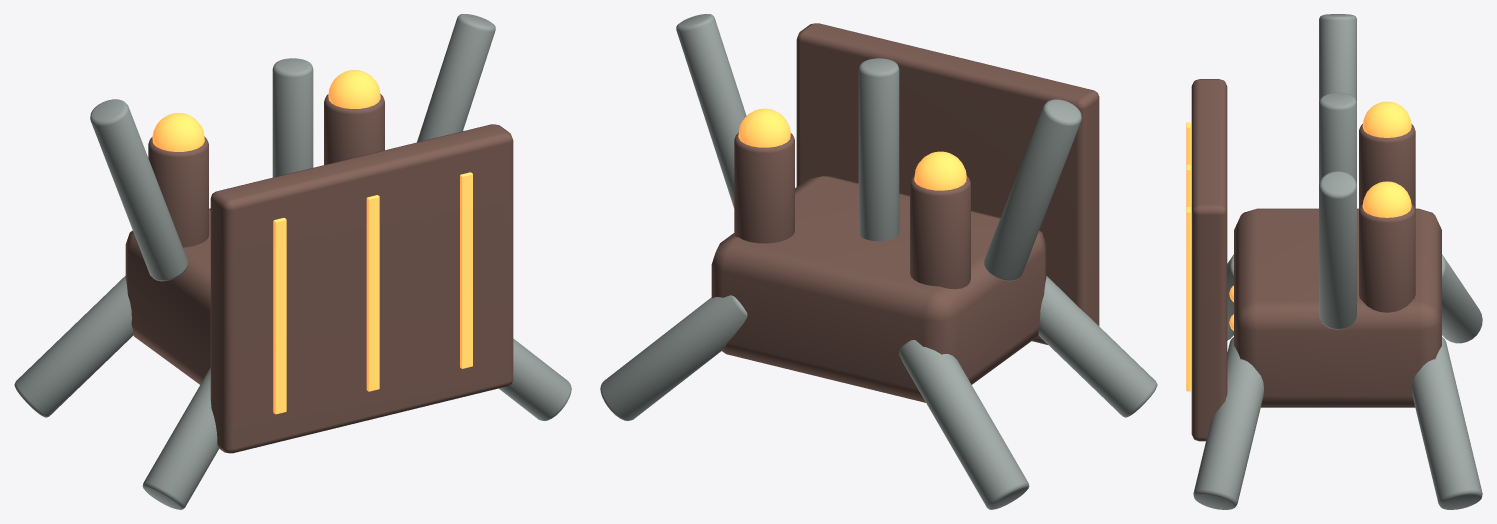
The model's file is card_p2_boss.glb.
3 renders of one model, left to right at view 1: azimuth 30°, elevation 25°; view 2: azimuth 150°, elevation 25°; view 3: azimuth 270°, elevation 25°, orthographic. The views are drawn at different scales.
Parts seen in each view (by area): view 1: card_p2_boss; view 2: card_p2_boss; view 3: card_p2_boss.
Part boxes in pixels (box(x1,y1,x2,y2)): card_p2_boss: box(14, 14, 571, 509); card_p2_boss: box(600, 14, 1157, 509); card_p2_boss: box(1186, 14, 1482, 509).
Bounding box in the file's own units: 2.4 × 1.94 × 1.57.
